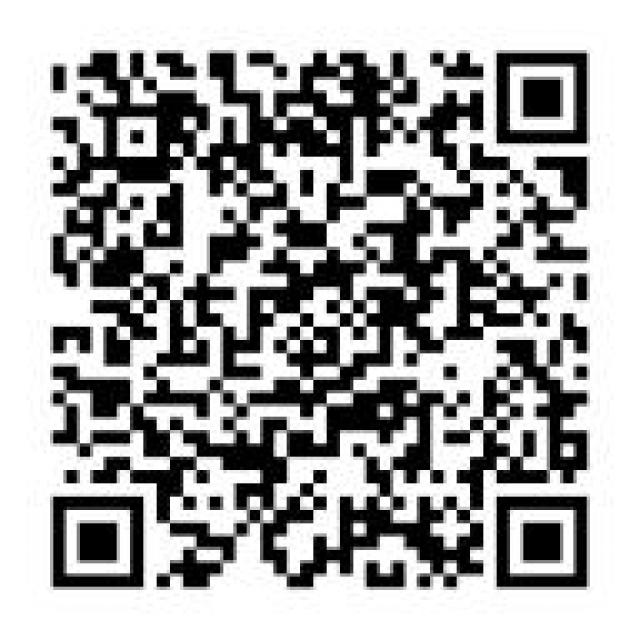QR_CODE: (35, 35, 603, 603)
